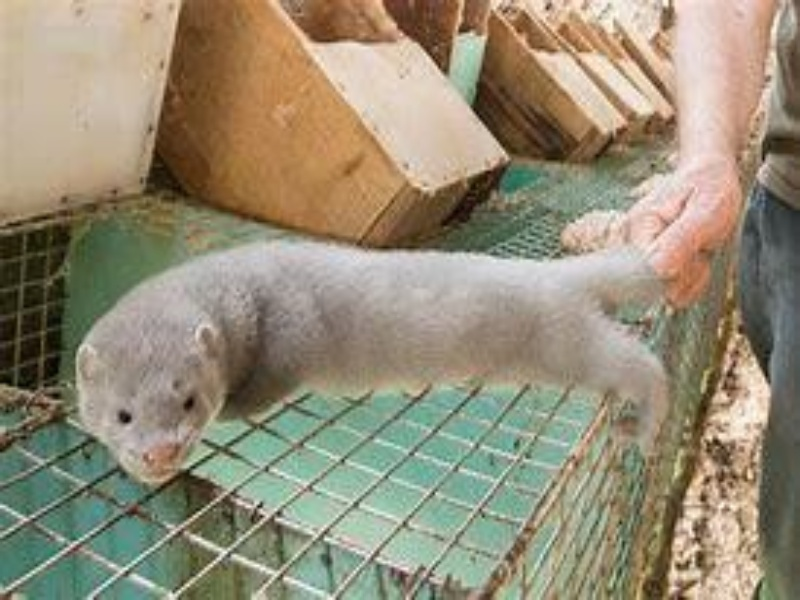minkish: (76, 237, 690, 490)
